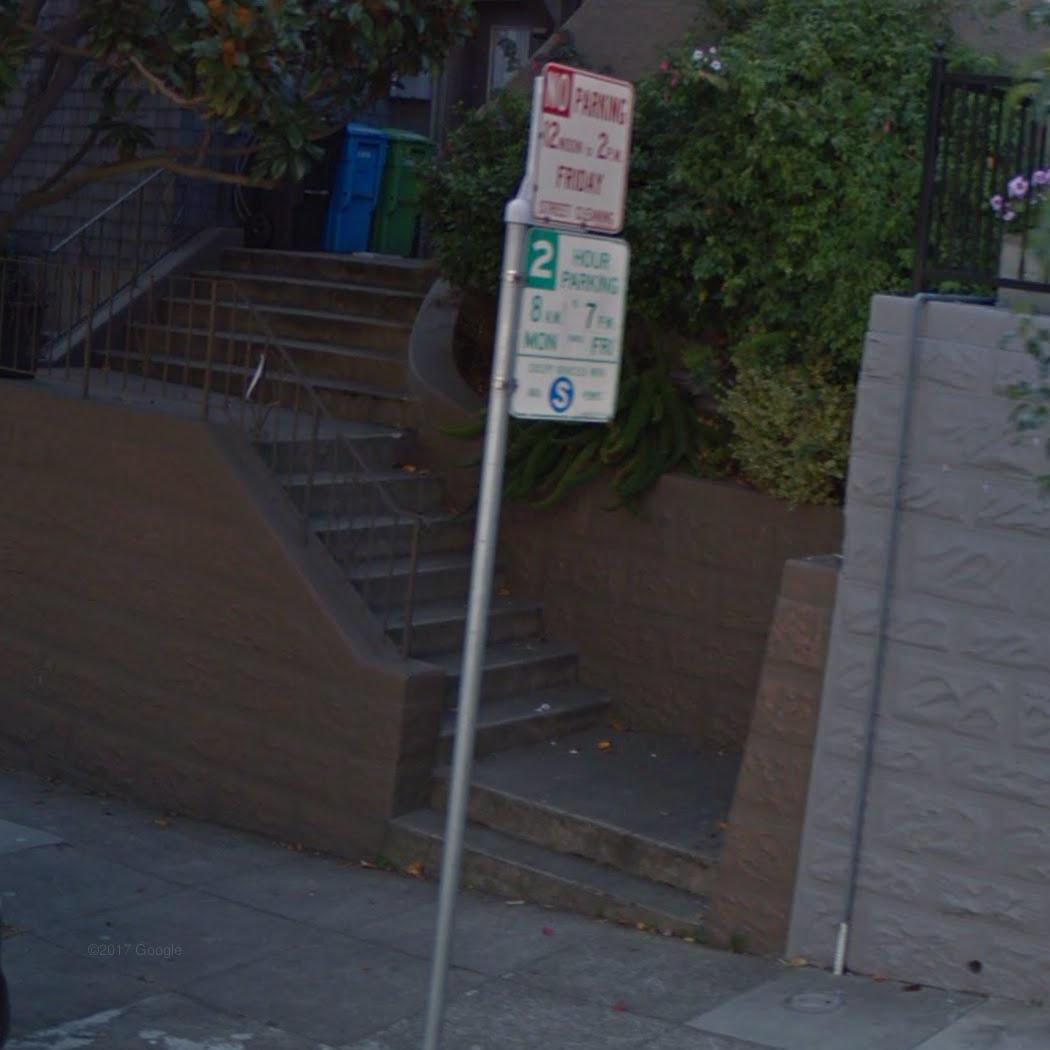2 Hour Parking: (508, 226, 632, 427)
No Parking: (525, 60, 634, 235)
